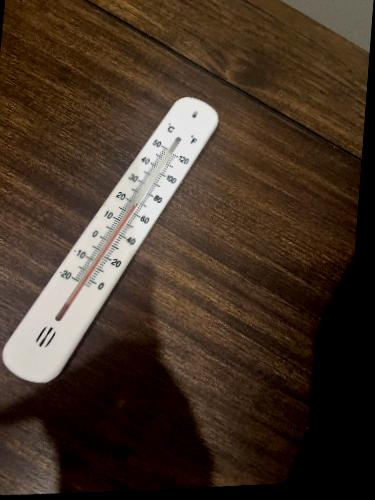thermo: (0, 91, 231, 390)
